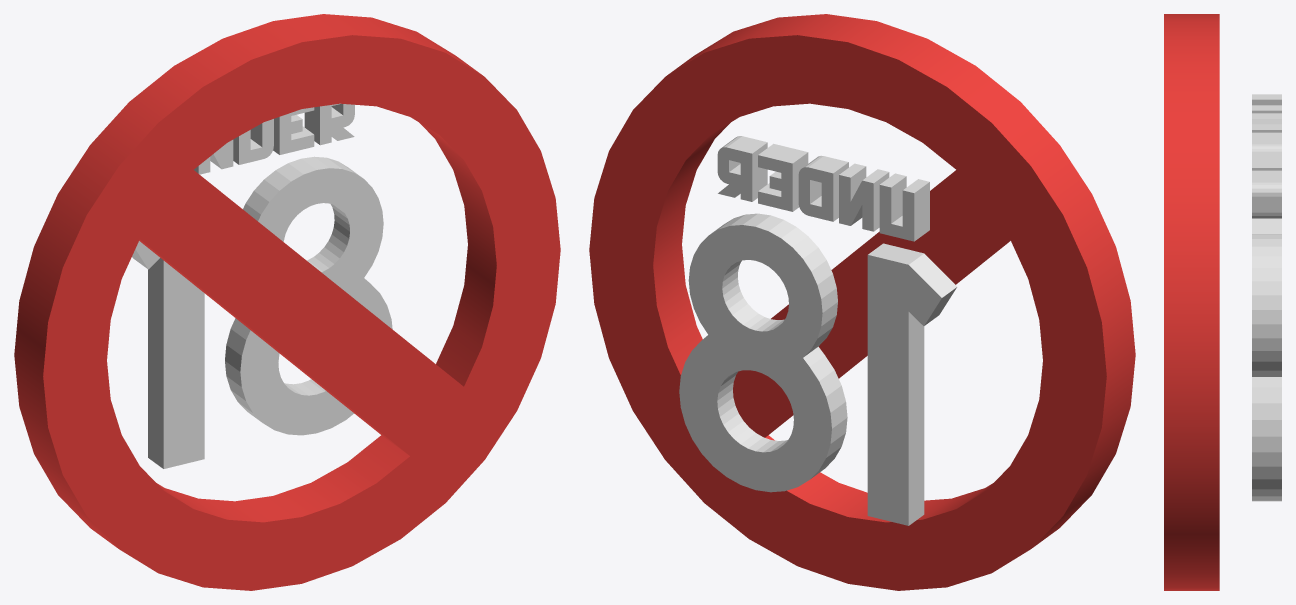
The model's file is no_one_under_eighteen.glb.
The picture shows the model from 3 angles, left to right: view 1: azimuth 30°, elevation 25°; view 2: azimuth 150°, elevation 25°; view 3: azimuth 270°, elevation 25°; orthographic projection. The views are drawn at different scales.
Visible parts, largest first — view 1: Circle.2627, Plane.351; view 2: Circle.2627, Plane.351; view 3: Circle.2627, Plane.351.
Part boxes in pixels (x1,y1,x2,y2): Circle.2627: [14, 14, 560, 590]; Plane.351: [132, 103, 392, 468]; Circle.2627: [589, 14, 1135, 590]; Plane.351: [679, 136, 957, 525]; Circle.2627: [1164, 14, 1219, 590]; Plane.351: [1252, 94, 1281, 501].
Size of the model in its own units: 1.92 by 1.92 by 0.3926.
Materials: 1 (1 with a texture image).
